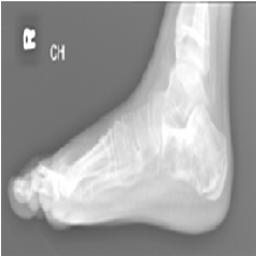cancer: (158, 105, 226, 204)
